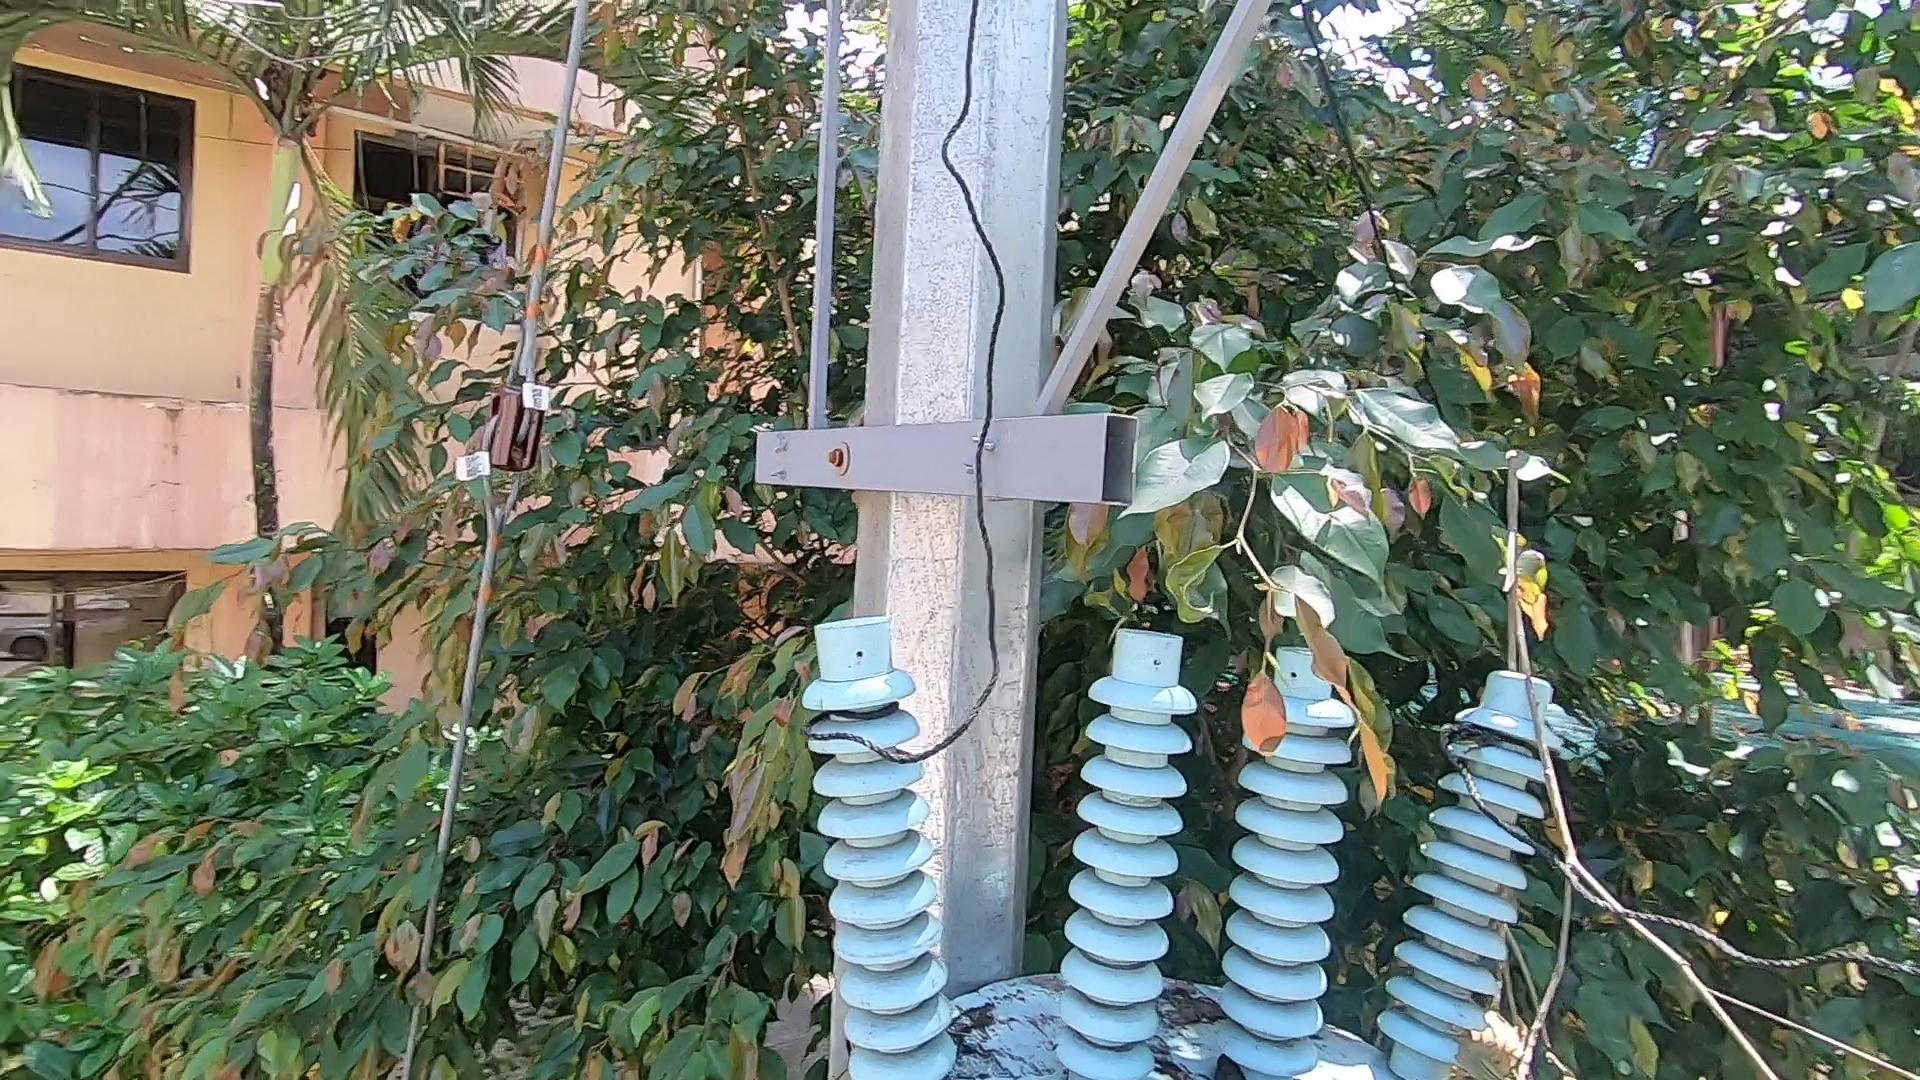branch with leaves: (1440, 439, 1920, 1080)
leaf: (1197, 1040, 1244, 1080)
